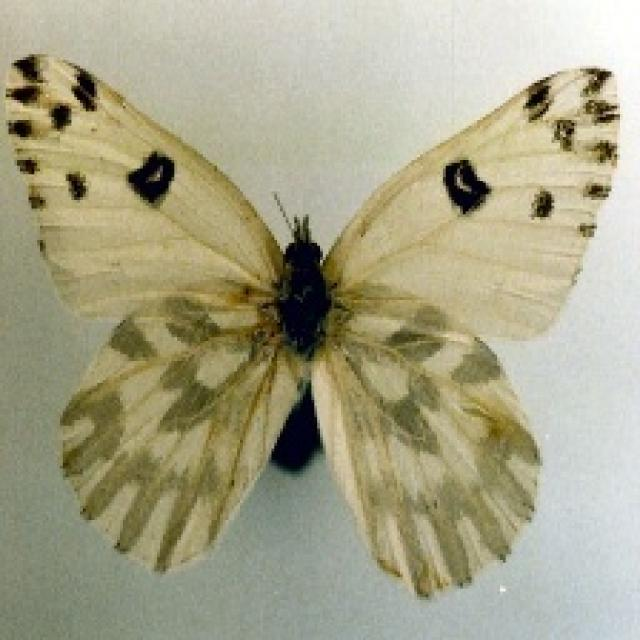butterfly: (0, 49, 620, 597)
